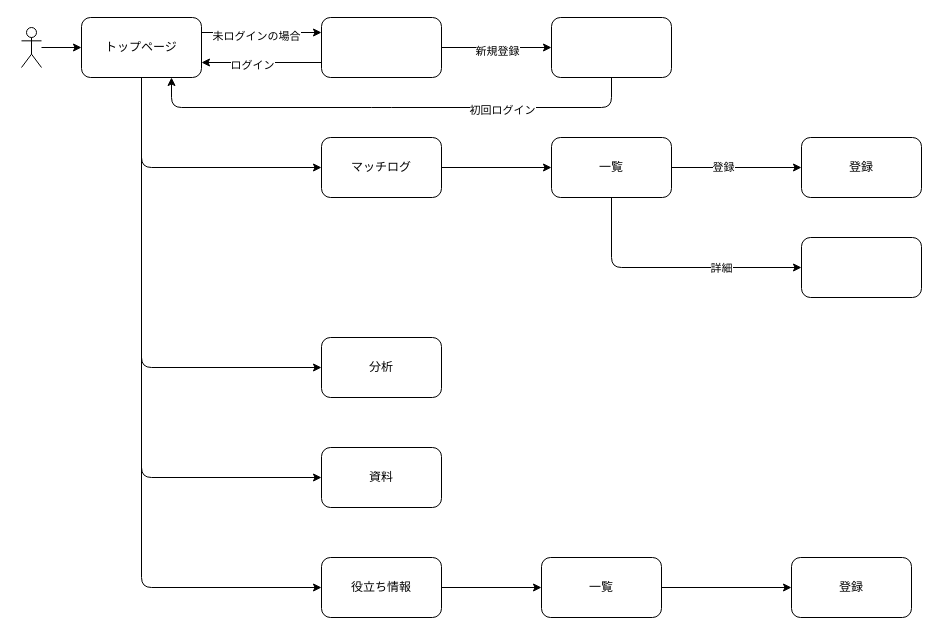
This 939x635 diagram has some shape labels left out. Here are the shapes that lost their labels. From the top down, the centre of each, then its label:
At point (31, 47): "Actor".
At point (381, 47): "ログイン画面".
At point (611, 47): "新規ユーザ登録".
At point (861, 267): "詳細/削除".
